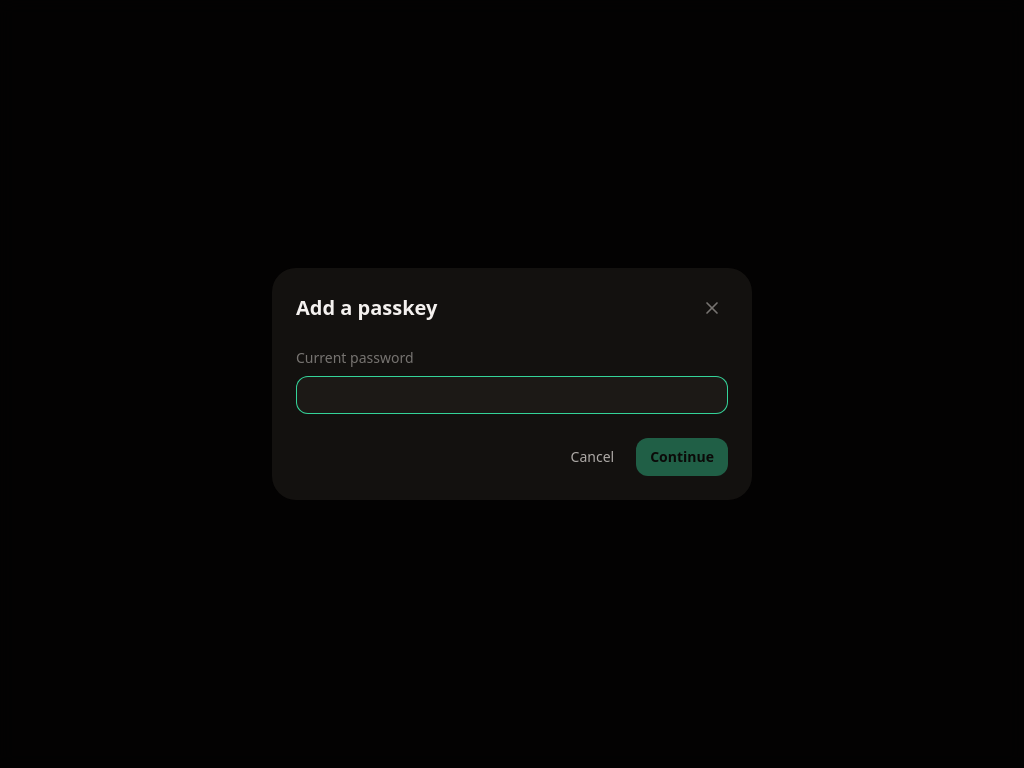
Test case: AddPasskeyModal › reports a device that already has a passkey when the browser refuses, with no Try again
This screenshot has width=1024, height=768.
Type "hunter2" into the password field labelled "Current password" at (512, 395), box [296,376,728,414]
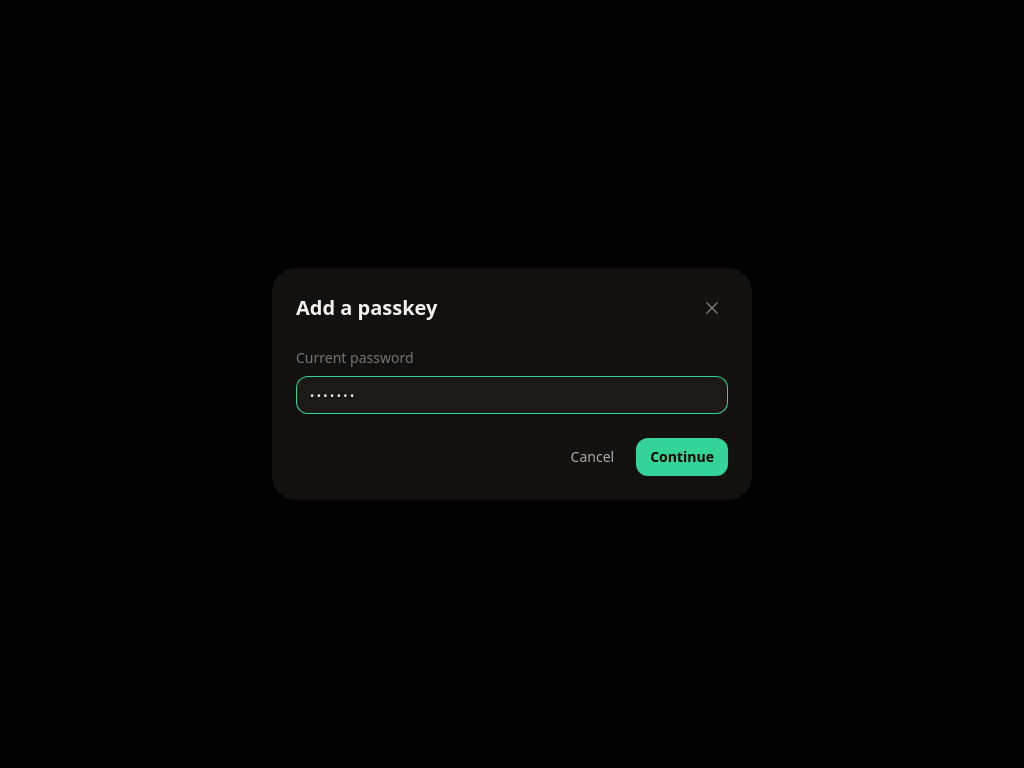
Click the button "Continue" at (682, 457), box [636,438,728,476]
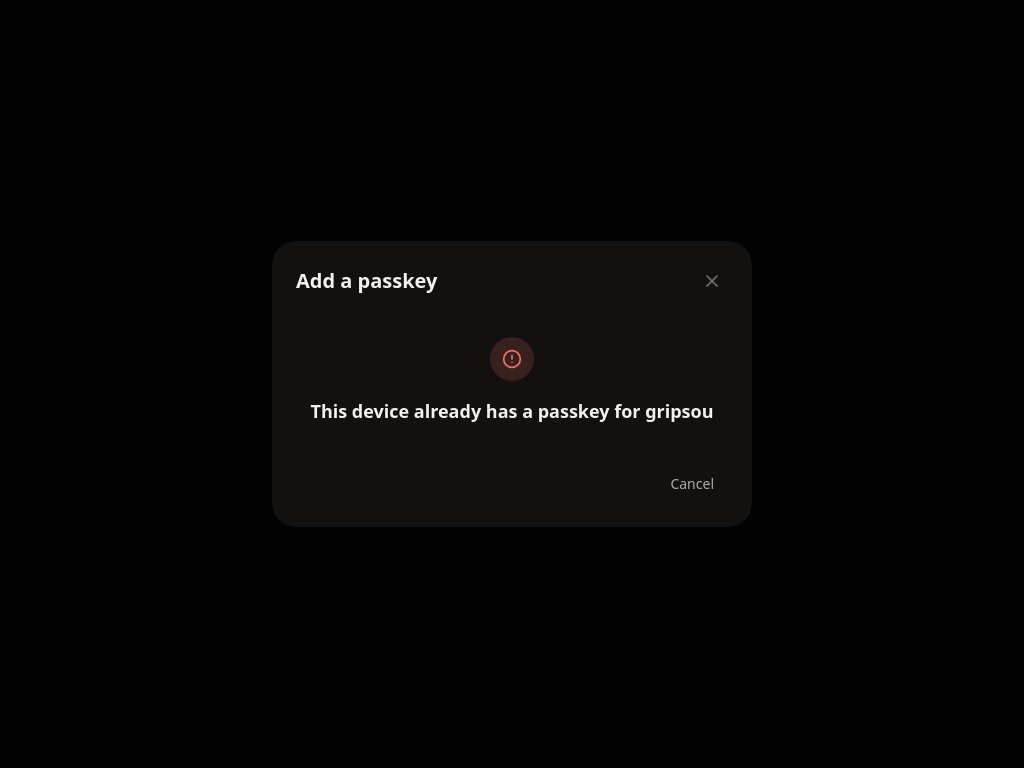
Expected: the text "This device already has a passkey for gripsou" is shown, [310,397,714,425]
